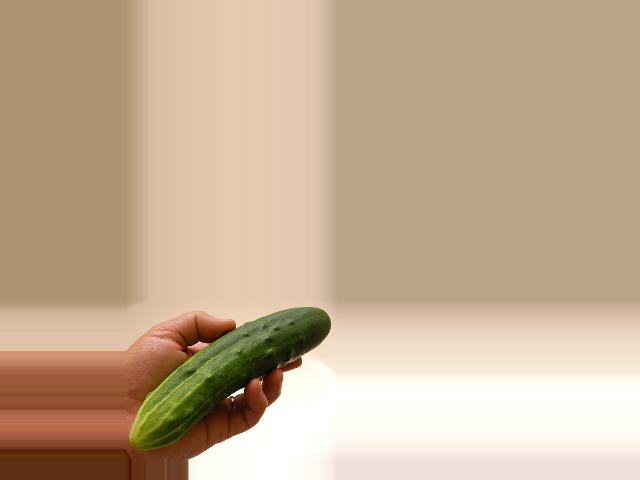cucumber: (130, 308, 331, 451)
